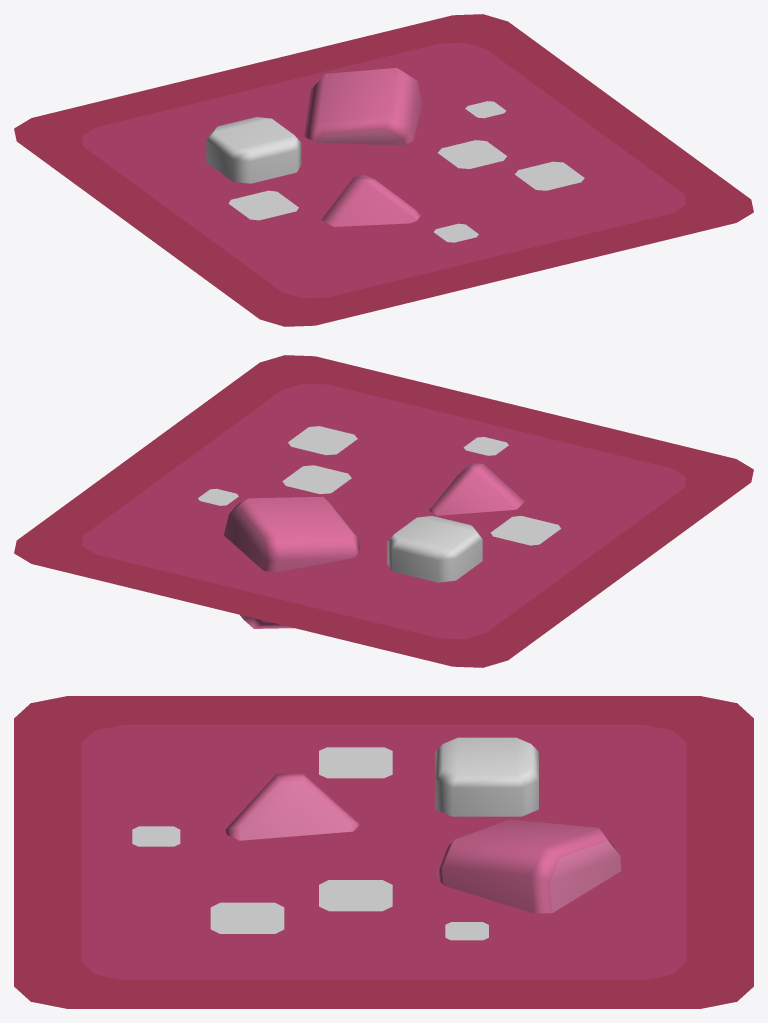
File: BC_cookrecipe_07.fbx
The picture shows the model from 3 angles, top to bottom: view 1: azimuth 30°, elevation 25°; view 2: azimuth 150°, elevation 25°; view 3: azimuth 270°, elevation 25°; orthographic projection. The views are drawn at different scales.
Parts seen in each view (by area): view 1: base, cube2, cube1, cube3, boko4, boko2, boko1, boko8; view 2: base, cube2, cube1, cube3, boko4, boko2, boko1, boko8; view 3: base, cube2, cube1, cube3, boko2, boko4, boko1, boko8, boko7.
Boxes of the visible parts, x1,y1,x2,y2 form: base: [14, 14, 753, 326]; cube2: [304, 68, 422, 145]; cube1: [206, 117, 301, 183]; cube3: [321, 174, 420, 226]; boko4: [228, 190, 298, 220]; boko2: [515, 161, 584, 190]; boko1: [438, 140, 506, 168]; boko8: [434, 223, 478, 242]; base: [14, 355, 753, 667]; cube2: [224, 496, 360, 628]; cube1: [387, 516, 482, 582]; cube3: [429, 463, 524, 515]; boko4: [490, 516, 560, 545]; boko2: [288, 426, 357, 455]; boko1: [282, 465, 351, 494]; boko8: [463, 437, 508, 455]; base: [14, 696, 753, 1008]; cube2: [437, 819, 621, 913]; cube1: [435, 737, 538, 816]; cube3: [225, 773, 360, 840]; boko2: [210, 902, 284, 933]; boko4: [319, 747, 392, 778]; boko1: [319, 880, 392, 911]; boko8: [132, 826, 180, 846]; boko7: [445, 922, 488, 940].
Bounding box in the file's own units: 3.5 × 0.8223 × 3.5.
